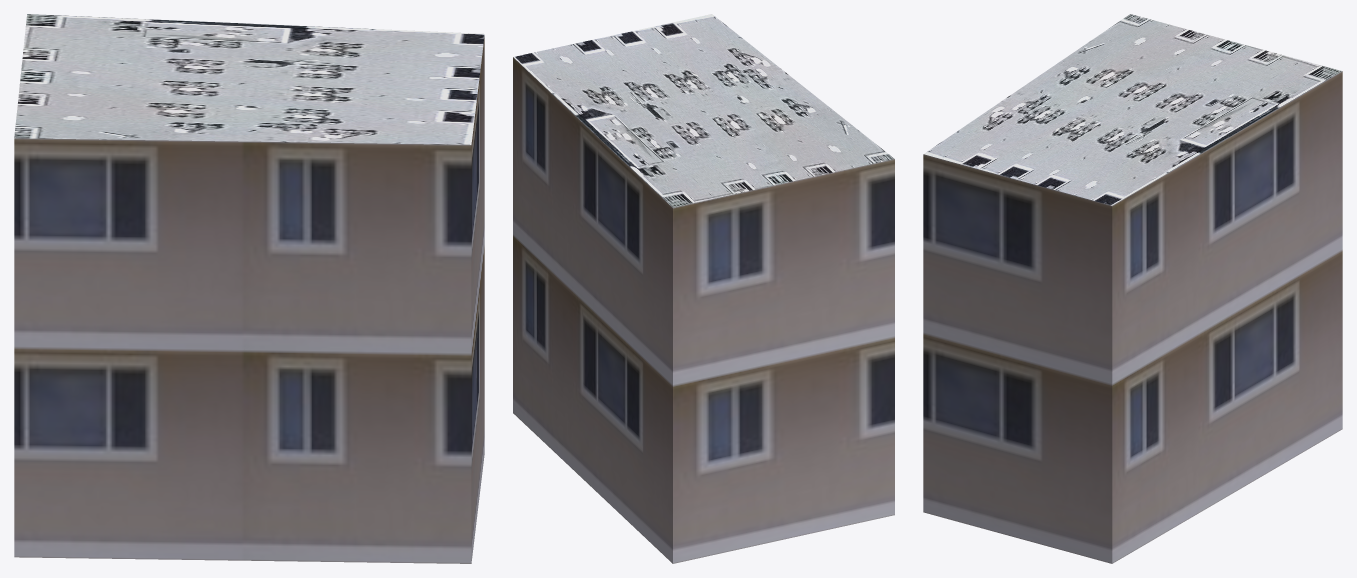
File: ResTex__3038.fbx
The picture shows the model from 3 angles, left to right: view 1: azimuth 30°, elevation 25°; view 2: azimuth 150°, elevation 25°; view 3: azimuth 270°, elevation 25°; orthographic projection. The views are drawn at different scales.
Parts seen in each view (by area): view 1: CityEngineMaterial_21_m, CityEngineMaterial_2_m; view 2: CityEngineMaterial_21_m, CityEngineMaterial_2_m; view 3: CityEngineMaterial_21_m, CityEngineMaterial_2_m.
Boxes of the visible parts, box(x1,y1,x2,y2) form: CityEngineMaterial_21_m: box(14, 36, 484, 563); CityEngineMaterial_2_m: box(14, 14, 484, 144); CityEngineMaterial_21_m: box(513, 57, 894, 563); CityEngineMaterial_2_m: box(513, 14, 894, 207); CityEngineMaterial_21_m: box(923, 71, 1342, 563); CityEngineMaterial_2_m: box(924, 14, 1341, 205).
Size of the model in its own units: 6.89 by 6 by 6.36.
2 materials, 2 textured.
